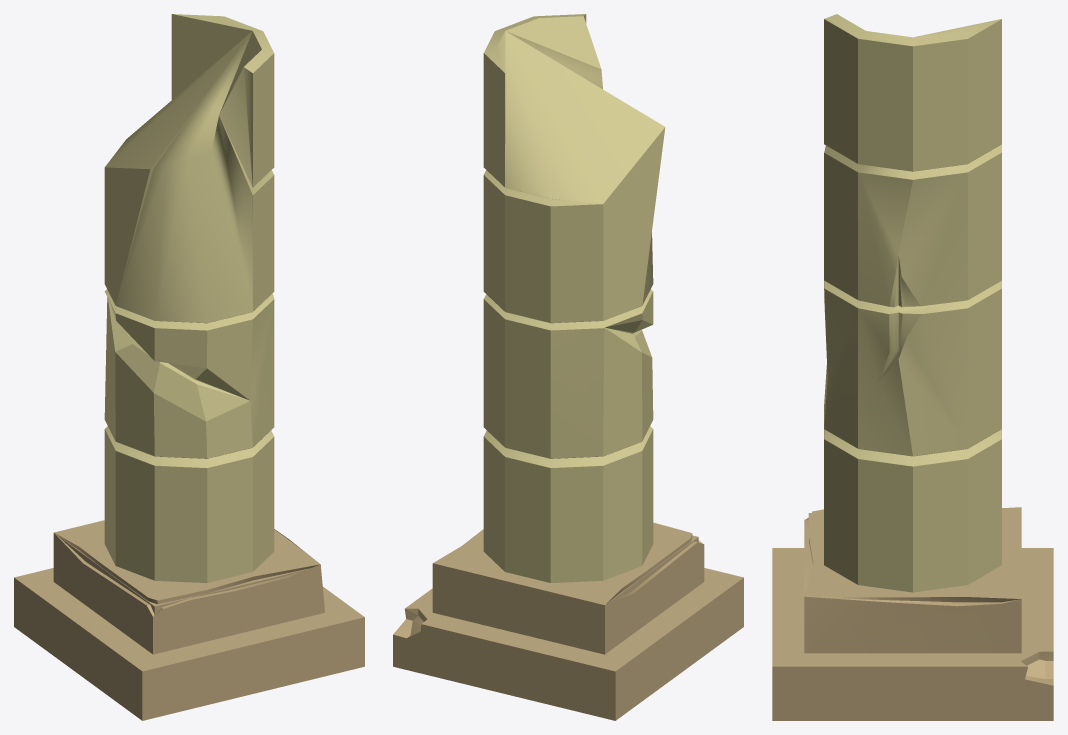
File: broken ancient pillar.fbx
3 views of the same model, side by side, from view 1: azimuth 30°, elevation 25°; view 2: azimuth 150°, elevation 25°; view 3: azimuth 270°, elevation 25° (orthographic). The views are drawn at different scales.
Visible parts, largest first — view 1: pCylinder3; view 2: pCylinder3; view 3: pCylinder3.
Boxes of the visible parts, x1,y1,x2,y2 form: pCylinder3: (14,14,364,720); pCylinder3: (393,14,743,720); pCylinder3: (772,14,1053,720).
Bounding box in the file's own units: 2.64 × 6.81 × 2.64.
